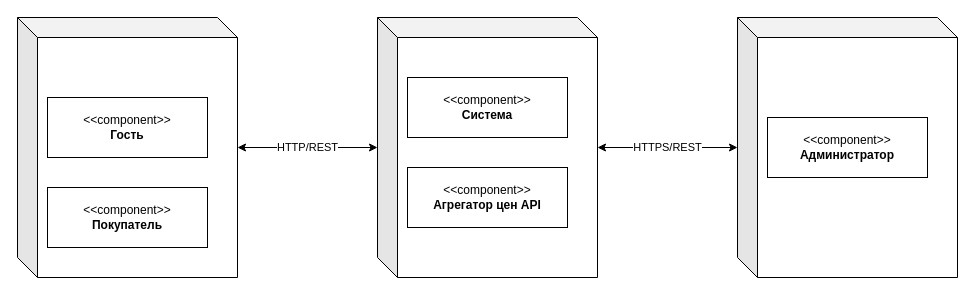
This 975x295 diagram has some shape labels left out. Here are the shapes that lost their labels. From the top down, the box of each, then its label:
(16, 16, 238, 278): Клиентское устройство (ПК, Ноутбук, Телефон, Планшет.)
(376, 16, 598, 278): Сервер API (Backend)
(736, 16, 958, 278): ПК Администратора
